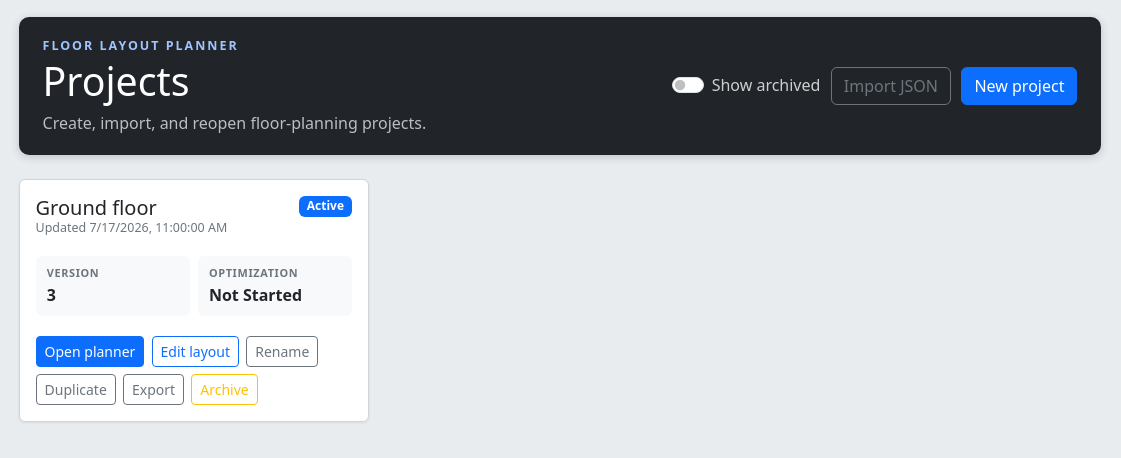
it: project dashboard › archives using the current optimistic version
Expected: the text "Ground floor" is shown, left=36, top=194, right=157, bottom=221
Click the button "Archive" at (225, 390), box left=191, top=374, right=258, bottom=405
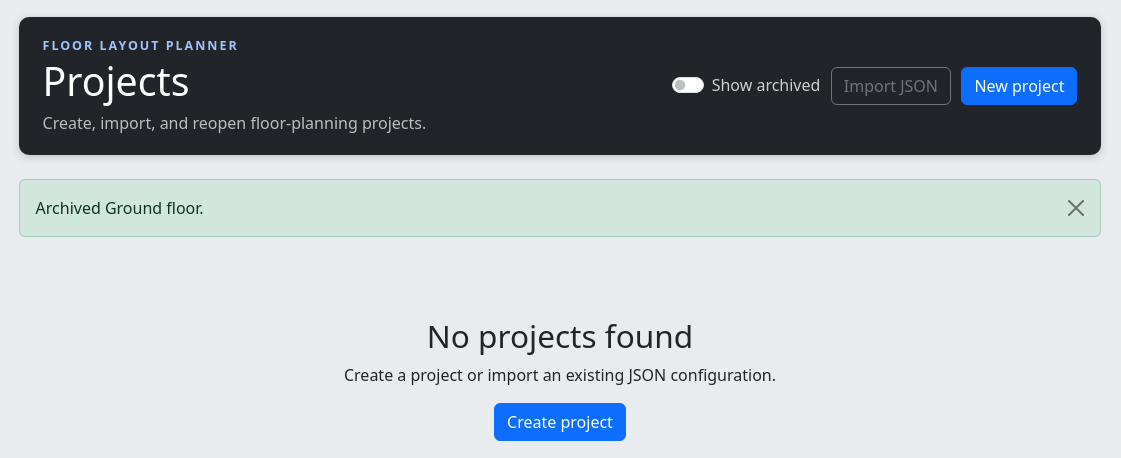
Expected: the text "Archived Ground floor." is shown, left=18, top=179, right=1101, bottom=237
